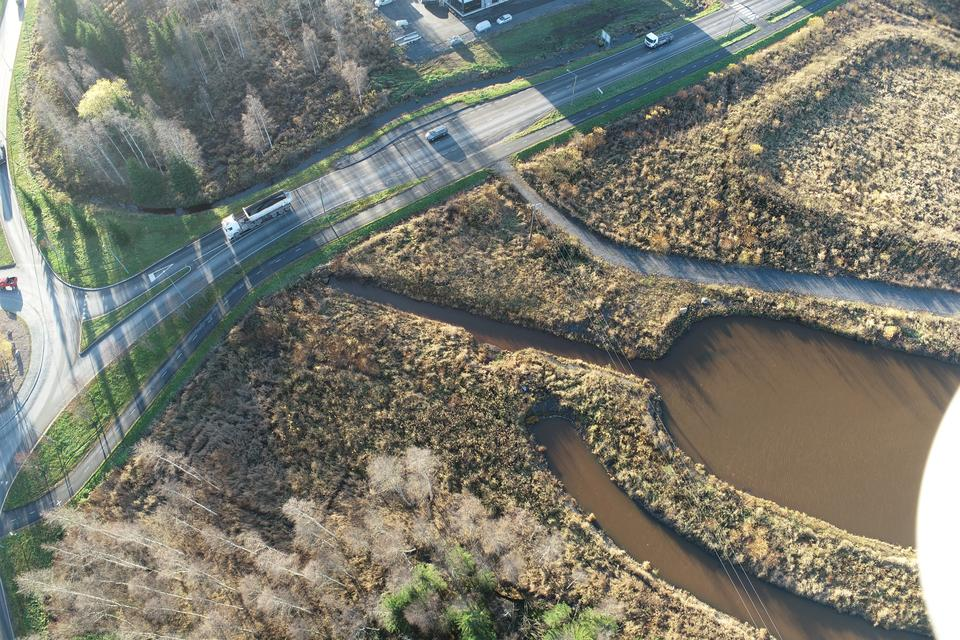intersection: (447, 89, 554, 194), (711, 0, 788, 54)
roundabout: (0, 114, 120, 558)
